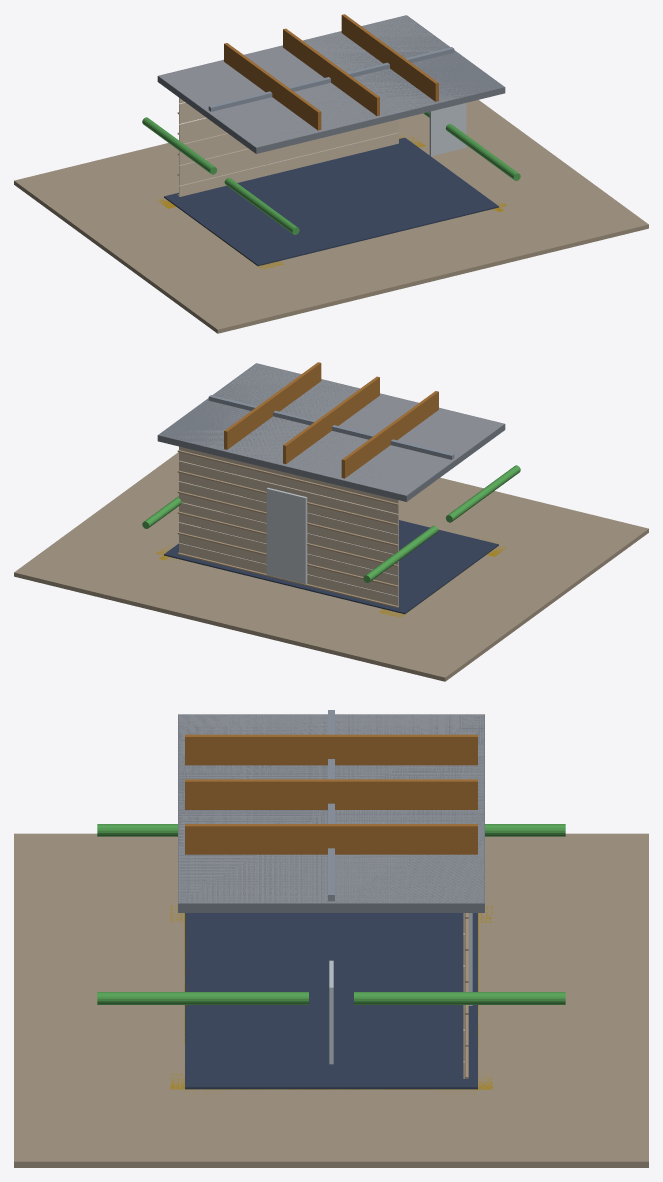
Rendered from stage_09_roof_structure.glb.
The picture shows the model from 3 angles, top to bottom: view 1: azimuth 30°, elevation 25°; view 2: azimuth 150°, elevation 25°; view 3: azimuth 270°, elevation 25°; orthographic projection. The views are drawn at different scales.
Parts seen in each view (by area): view 1: world; view 2: world; view 3: world.
Boxes of the visible parts, left/top/right/bottom form: world: left=14, top=14, right=648, bottom=333; world: left=14, top=362, right=648, bottom=681; world: left=14, top=710, right=648, bottom=1167.
Bounding box in the file's own units: 11 × 4.2 × 9.
